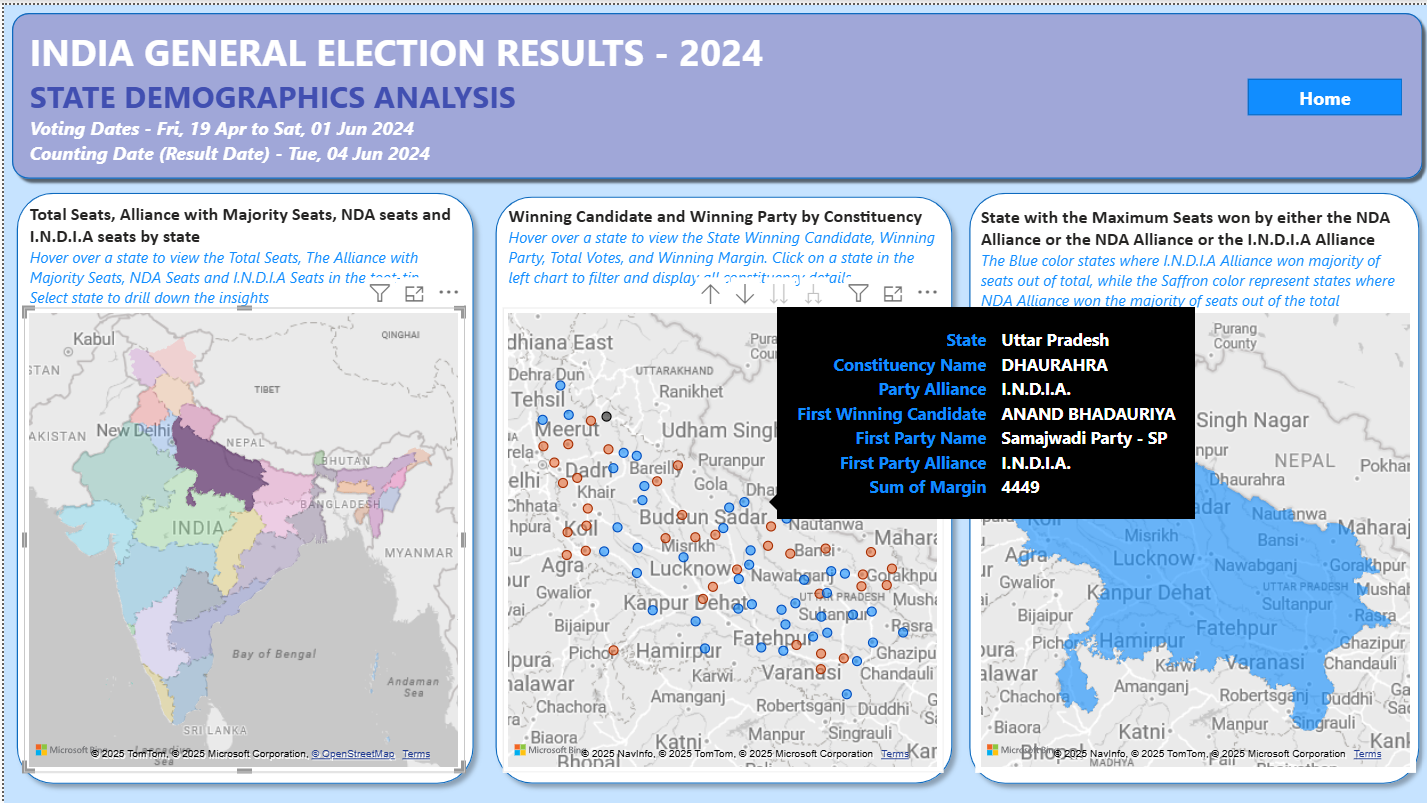

What the dashboard file says about the page in this screenshot:
{"tool":"powerbi","page":{"name":"STATE DEMOGRAPHICS ANALYSIS","canvas":[1250,700],"ordinal":2},"visuals":[{"type":"shape","box":[0,0,1250.7,159.3],"z":0},{"type":"textbox","box":[17.8,14.3,700.2,145],"z":1000},{"type":"shape","box":[2.4,155.7,418.5,536.2],"z":2000},{"type":"shape","box":[422,159.3,418.5,532.6],"z":3000},{"type":"shape","box":[837,155.7,412.5,536.2],"z":4000},{"type":"textbox","box":[17.8,168.8,386.4,120.1],"z":5000},{"type":"filledMap","fields":{"Category":["states.State"],"Series":["states.State"]},"box":[17.8,265.1,386.4,407.8],"z":6000},{"type":"textbox","box":[437.5,170,386.4,120.1],"z":7000},{"type":"map","fields":{"Category":["states.State","constituencywise_results.Constituency Name"],"Series":["constituencywise_results.Party Alliance"]},"box":[437.5,265.1,386.4,407.8],"z":8000},{"type":"textbox","box":[851.2,171.2,386.4,120.1],"z":9000},{"type":"filledMap","fields":{"Category":["states.State"],"Series":["states.Winning Alliance Plus"]},"box":[851.2,265.1,386.4,407.8],"z":10000},{"type":"shape","box":[1090.2,64.2,135.5,32.1],"z":11000}]}

Visuals, with their boxes in screenshot pixels (x1, y1, x2, y2), scaled from the page's 1250x700 canvas onto the 1427x803 screenshot:
shape: <bbox>0, 0, 1426, 183</bbox>
textbox: <bbox>20, 16, 820, 183</bbox>
shape: <bbox>3, 179, 480, 794</bbox>
shape: <bbox>482, 183, 960, 794</bbox>
shape: <bbox>956, 179, 1426, 794</bbox>
textbox: <bbox>20, 194, 461, 331</bbox>
filledMap - states.State x states.State: <bbox>20, 304, 461, 772</bbox>
textbox: <bbox>499, 195, 941, 333</bbox>
map - states.State x constituencywise_results.Constituency Name: <bbox>499, 304, 941, 772</bbox>
textbox: <bbox>972, 196, 1413, 334</bbox>
filledMap - states.State x states.Winning Alliance Plus: <bbox>972, 304, 1413, 772</bbox>
shape: <bbox>1245, 74, 1399, 110</bbox>
